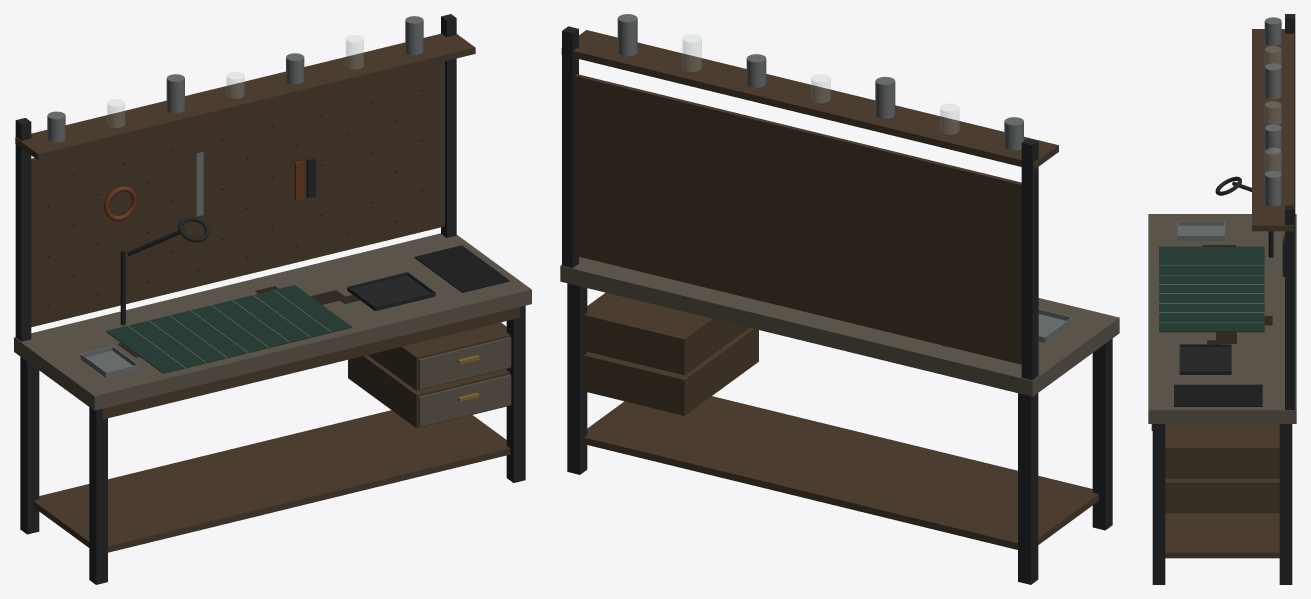
The model's file is workbench.glb.
3 renders of one model, left to right at view 1: azimuth 30°, elevation 25°; view 2: azimuth 150°, elevation 25°; view 3: azimuth 270°, elevation 25°, orthographic. The views are drawn at different scales.
Visible parts, largest first — view 1: woodOld, woodGrey, iron, workMat, tin, rubberMat, glassClear, rust; view 2: woodOld, iron, woodGrey, tin, glassClear; view 3: woodOld, woodGrey, iron, workMat, tin, rubberMat, glassClear, paperOld, woodNight.
Boxes of the visible parts, left/top/right/bottom form: woodOld: left=15, top=33, right=520, bottom=552; woodGrey: left=14, top=233, right=531, bottom=426; iron: left=15, top=14, right=525, bottom=584; workMat: left=106, top=285, right=351, bottom=373; tin: left=47, top=16, right=423, bottom=377; rubberMat: left=414, top=245, right=509, bottom=292; glassClear: left=107, top=35, right=363, bottom=127; rust: left=104, top=161, right=303, bottom=221; woodOld: left=561, top=30, right=1098, bottom=549; iron: left=562, top=26, right=1112, bottom=584; woodGrey: left=560, top=257, right=1119, bottom=396; tin: left=617, top=14, right=1072, bottom=342; glassClear: left=682, top=34, right=959, bottom=134; woodOld: left=1151, top=29, right=1294, bottom=558; woodGrey: left=1148, top=214, right=1296, bottom=423; iron: left=1152, top=14, right=1295, bottom=584; workMat: left=1159, top=246, right=1264, bottom=332; tin: left=1177, top=17, right=1281, bottom=240; rubberMat: left=1174, top=384, right=1262, bottom=406; glassClear: left=1265, top=46, right=1281, bottom=172; paperOld: left=1159, top=265, right=1264, bottom=322; woodNight: left=1202, top=245, right=1272, bottom=344.
Bounding box in the file's own units: 2.2 × 2.04 × 0.7.
